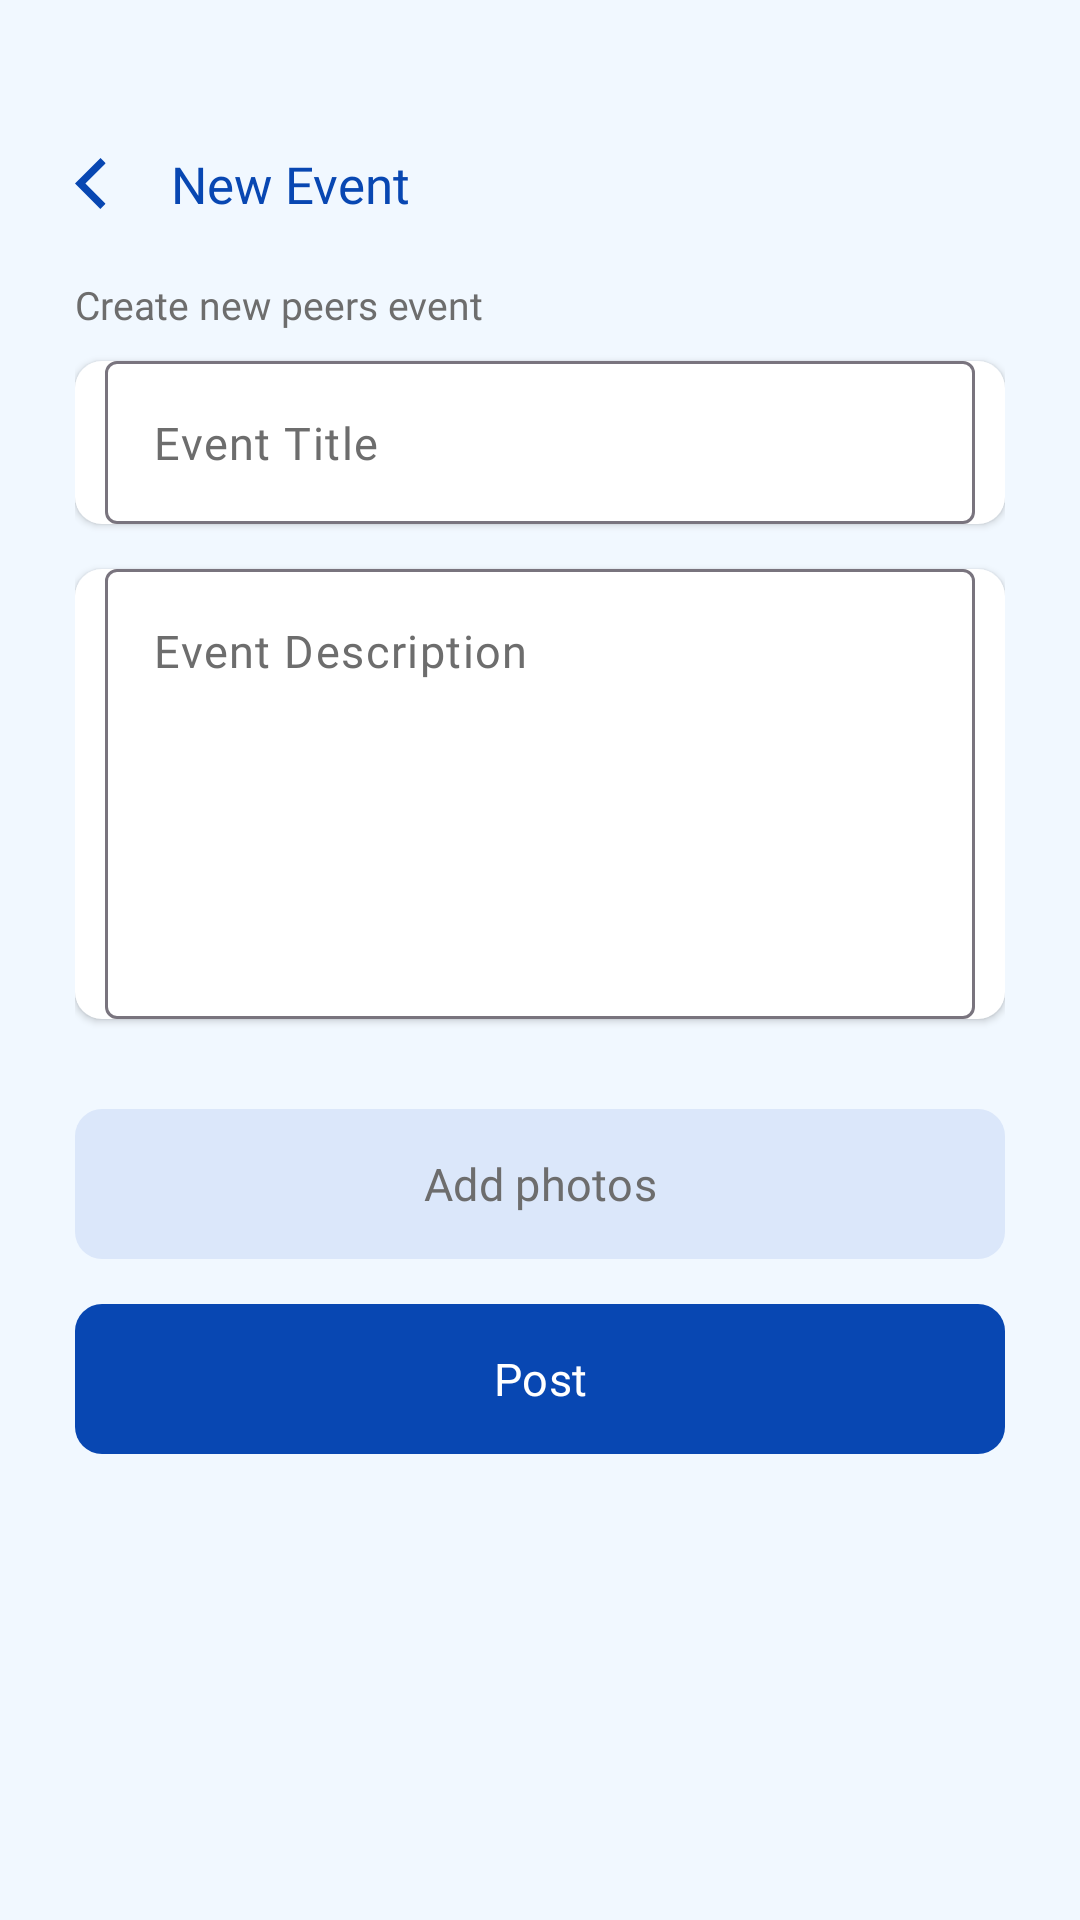

Locate icon controls on the screen. Image size 1080px×1920px, boxes as (x1, y1, x2, y2).
return: (75, 158, 106, 209)
